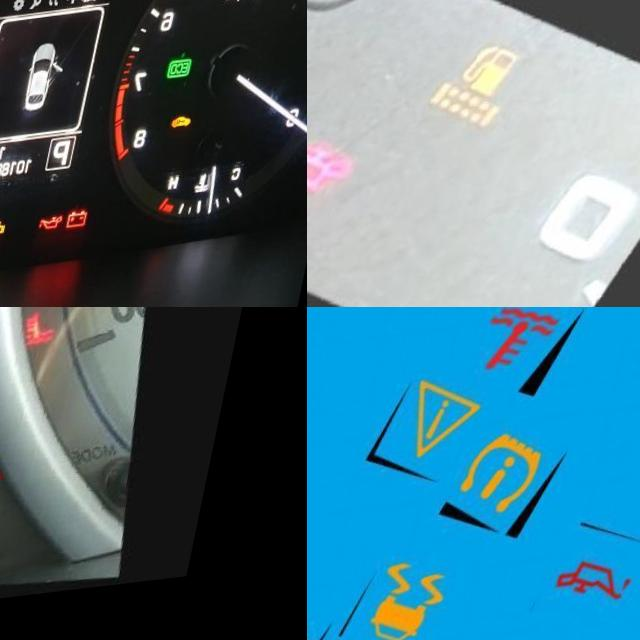Engine cooling system: (21, 322, 66, 366)
Low fuel level: (462, 37, 547, 119)
